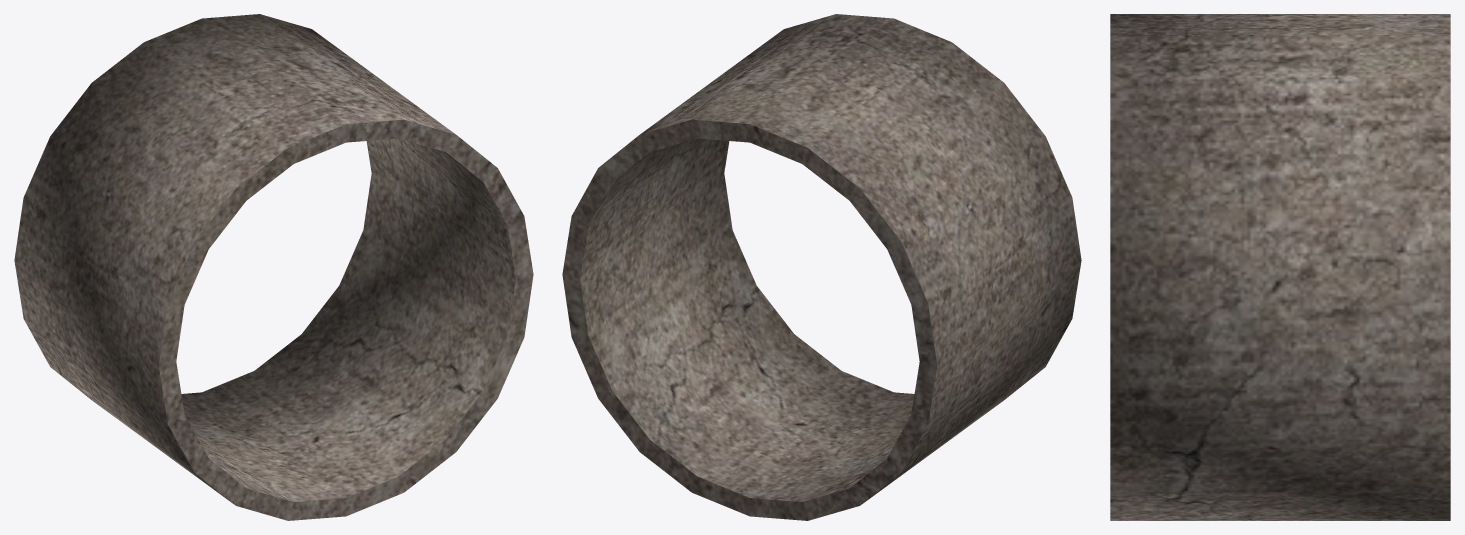
Rendered from concretetube.glb.
3 renders of one model, left to right at view 1: azimuth 30°, elevation 25°; view 2: azimuth 150°, elevation 25°; view 3: azimuth 270°, elevation 25°, orthographic. The views are drawn at different scales.
Parts seen in each view (by area): view 1: ConcreteTube; view 2: ConcreteTube; view 3: ConcreteTube.
Boxes of the visible parts, x1,y1,x2,y2 form: ConcreteTube: [14, 14, 533, 520]; ConcreteTube: [562, 14, 1081, 520]; ConcreteTube: [1110, 14, 1450, 520].
Size of the model in its own units: 3 by 3 by 2.
Materials: 1 (1 with a texture image).
